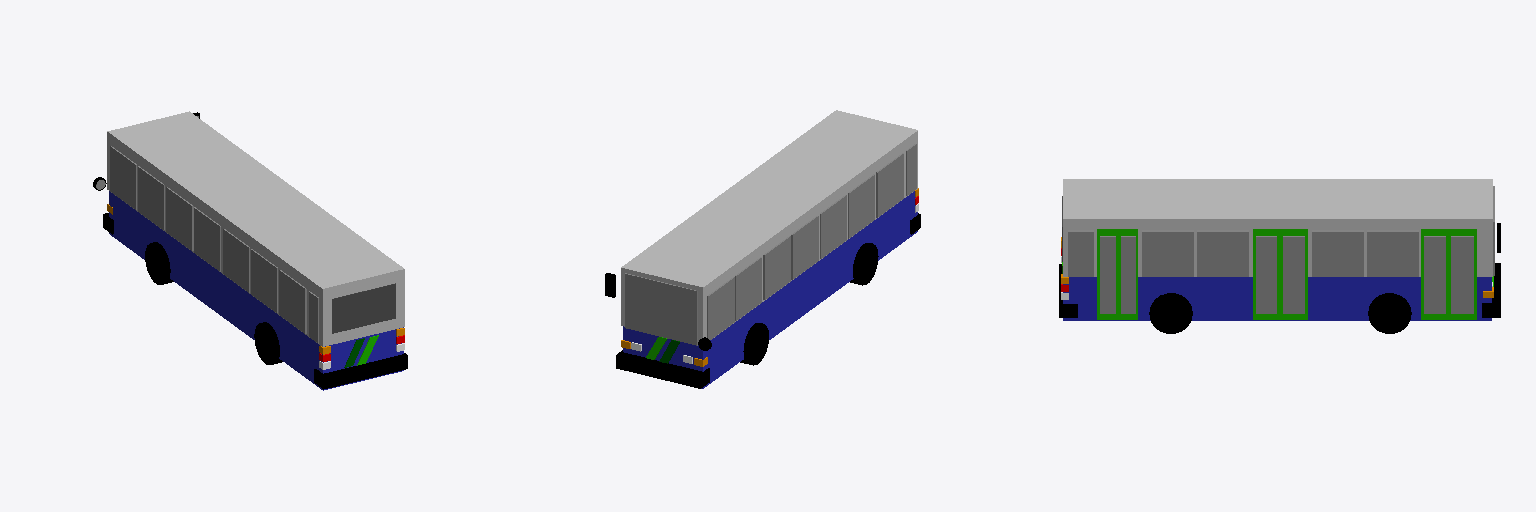
File: ikarus_415.obj
The picture shows the model from 3 angles: view 1: azimuth 30°, elevation 25°; view 2: azimuth 150°, elevation 25°; view 3: azimuth 270°, elevation 25°; orthographic projection.
Visible parts, largest first — view 1: Box14, Box01, Box13, Box30, Box43, Box47, Box42, Box40, Box41, Box44, Box45, Cylinder03 (+1 smaller); view 2: Box14, Box01, Box07, Box02, Box47, Box43, Box42, Box41, Box44, Box45, Box40, Cylinder03 (+1 smaller); view 3: Box14, Box01, Box19, Box23, Box24, Box25, Box12, Box11, Box22, Box21, Box20, Box10 (+7 smaller).
Boxes of the visible parts, box(x1,y1,x2,y2) form: Box14: box(107, 111, 404, 346); Box01: box(109, 191, 403, 390); Box13: box(332, 283, 395, 333); Box30: box(314, 353, 407, 389); Box43: box(166, 187, 193, 250); Box47: box(279, 270, 306, 333); Box42: box(194, 207, 220, 271); Box40: box(138, 166, 164, 229); Box41: box(110, 146, 136, 209); Box44: box(251, 249, 277, 312); Box45: box(223, 229, 249, 292); Cylinder03: box(254, 322, 282, 364); Box14: box(621, 110, 917, 341); Box01: box(623, 191, 917, 388); Box07: box(625, 273, 697, 345); Box02: box(616, 350, 709, 388); Box47: box(876, 153, 903, 217); Box43: box(763, 236, 790, 299); Box42: box(791, 216, 818, 279); Box41: box(707, 277, 734, 339); Box44: box(848, 174, 874, 238); Box45: box(820, 195, 846, 258); Box40: box(735, 257, 761, 320); Cylinder03: box(850, 243, 878, 285); Box14: box(1063, 179, 1492, 276); Box01: box(1063, 277, 1491, 320); Box19: box(1367, 230, 1418, 276); Box23: box(1312, 230, 1363, 276); Box24: box(1197, 230, 1248, 276); Box25: box(1142, 230, 1193, 276); Box12: box(1451, 236, 1473, 313); Box11: box(1424, 236, 1445, 313); Box22: box(1283, 236, 1304, 313); Box21: box(1253, 229, 1307, 319); Box20: box(1256, 236, 1276, 313); Box10: box(1421, 229, 1476, 319).
Bounding box in the file's own units: 3.25 × 3.36 × 11.87.